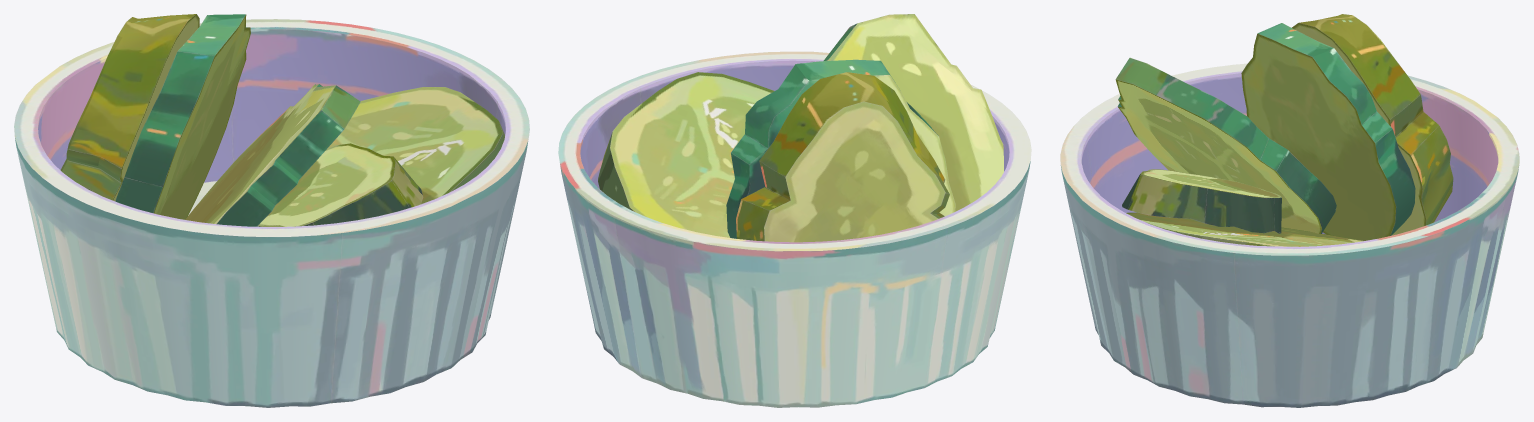
The model's file is pickles_3d_version_of_hyuna_lees_illustration-transformed.glb.
3 renders of one model, left to right at view 1: azimuth 30°, elevation 25°; view 2: azimuth 150°, elevation 25°; view 3: azimuth 270°, elevation 25°, orthographic. The views are drawn at different scales.
Visible parts, largest first — view 1: Object_6; view 2: Object_6; view 3: Object_6.
Part boxes in pixels (<box>): Object_6: <box>14,14,529,407</box>; Object_6: <box>558,14,1031,407</box>; Object_6: <box>1060,14,1519,407</box>.
Size of what is drawn, in the model's own units: 0.1425 by 0.0921 by 0.1425.
Materials: 1 (1 with a texture image).
